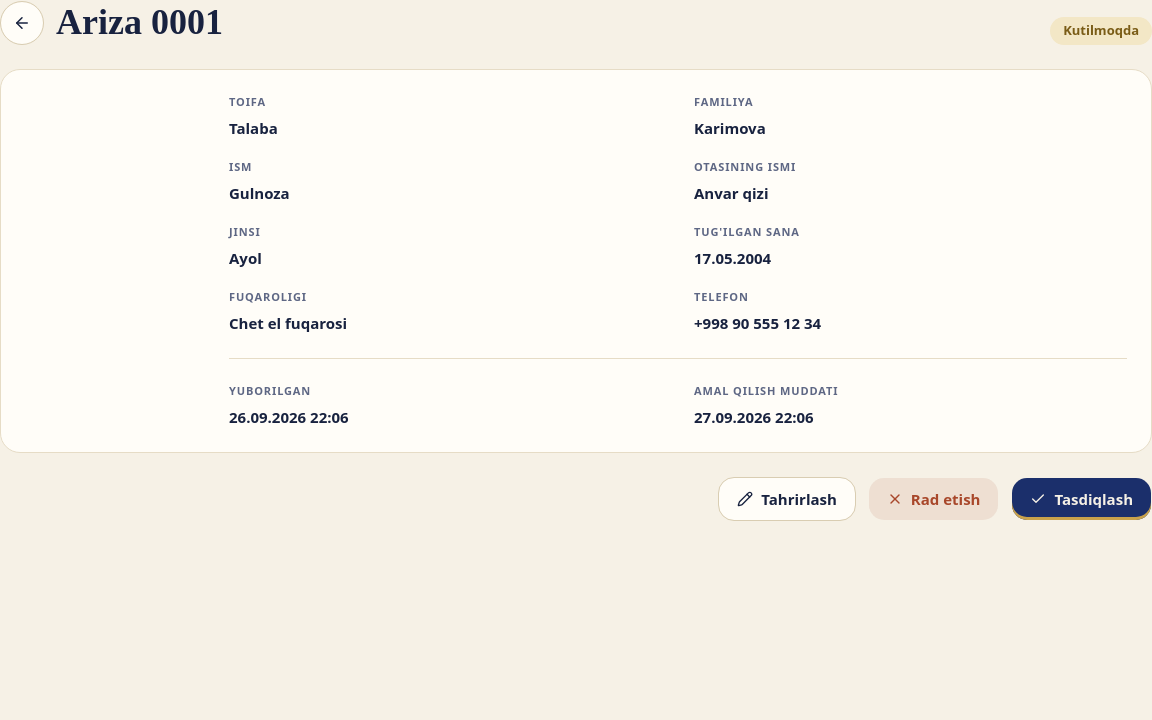
Test: RequestPage › should keep the dialog open and show the backend message when rejection fails
The image size is (1152, 720).
Click the button "Rad etish" at (934, 499), box [868,477,1000,521]
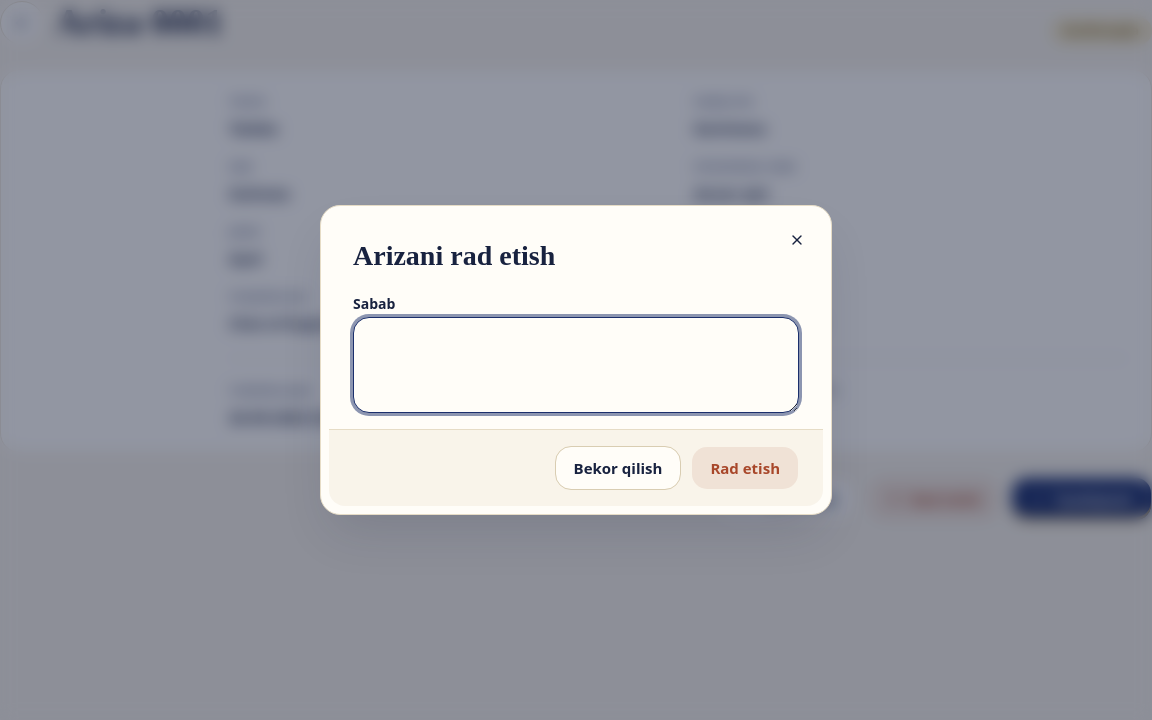
Type "Takroriy ariza" into the text box labelled "Sabab" at (576, 365), box [353,317,799,413]
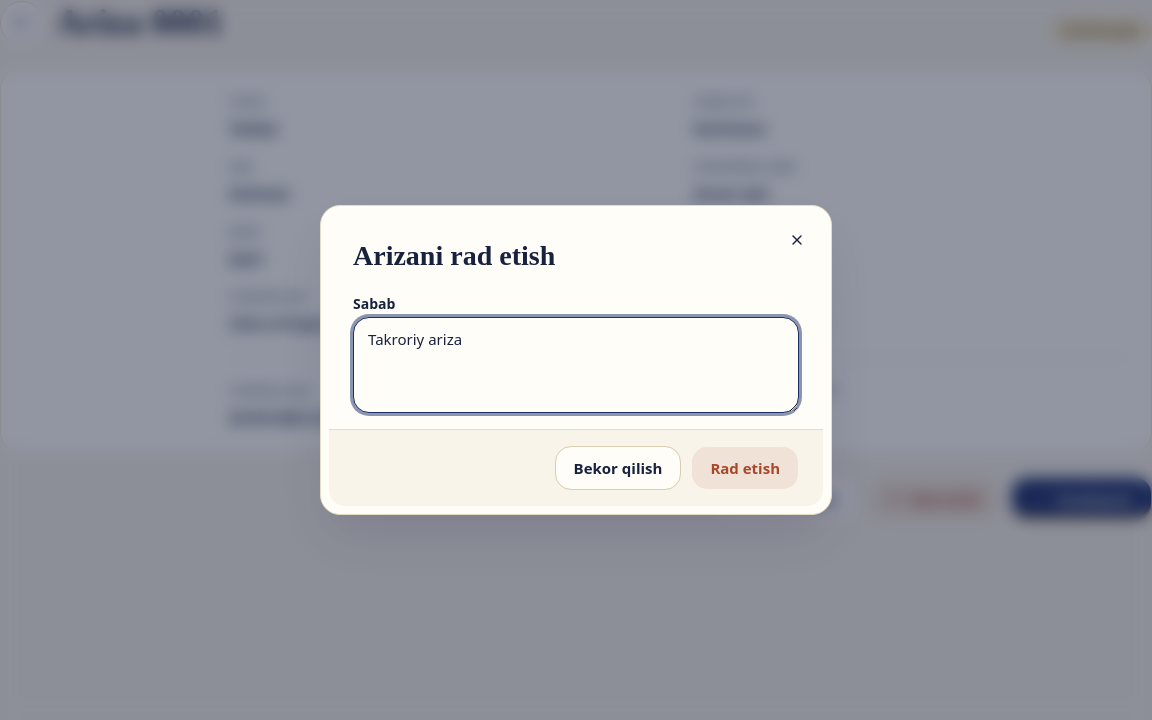
Click the button "Rad etish" at (745, 468), box [691,446,799,490]
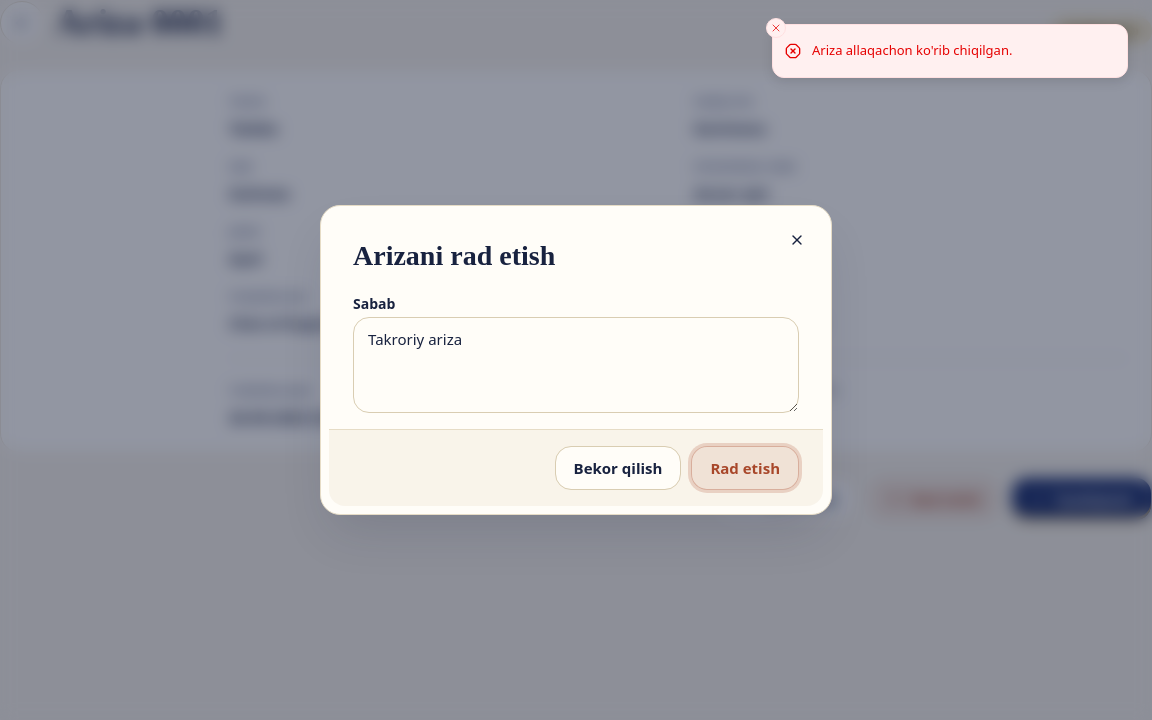
Result: the dialog is shown at [320,205,832,515]
Result: the text "Ariza allaqachon ko'rib chiqilgan." is shown at [812,41,1012,60]
